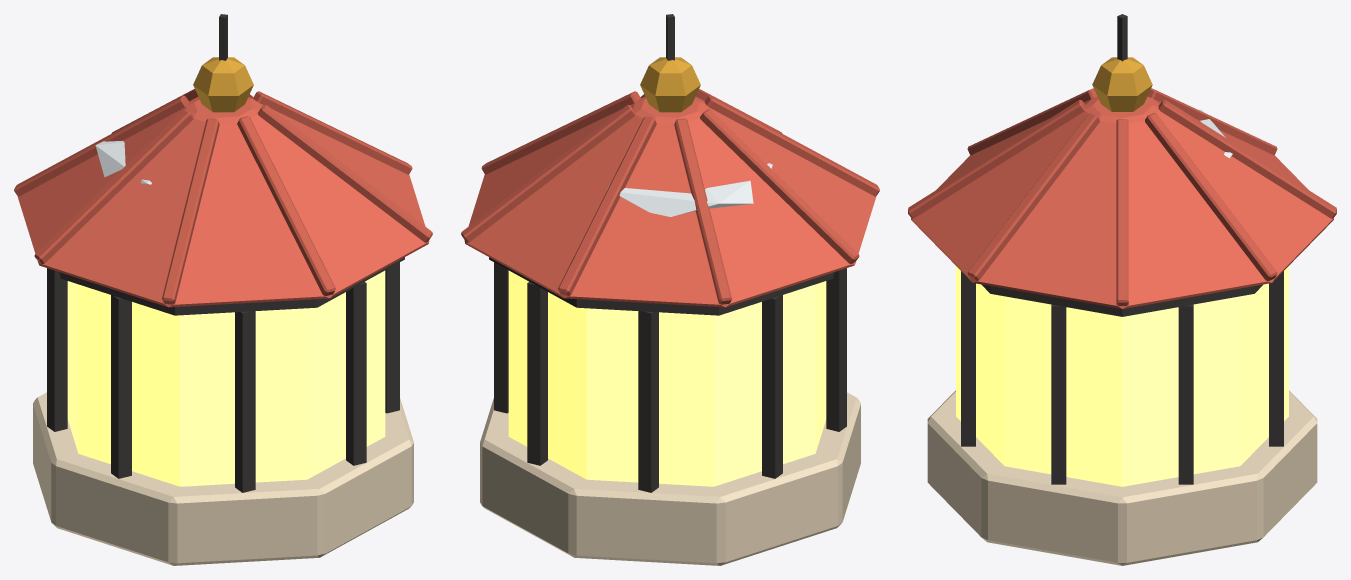
The model's file is mod_roof_lighthouse_loft.glb.
The picture shows the model from 3 angles, left to right: view 1: azimuth 30°, elevation 25°; view 2: azimuth 150°, elevation 25°; view 3: azimuth 270°, elevation 25°; orthographic projection.
Parts seen in each view (by area): view 1: mod_roof_lighthouse_loft; view 2: mod_roof_lighthouse_loft; view 3: mod_roof_lighthouse_loft.
Boxes of the visible parts, bbox=[...] form: mod_roof_lighthouse_loft: bbox=[14, 14, 432, 565]; mod_roof_lighthouse_loft: bbox=[461, 14, 879, 565]; mod_roof_lighthouse_loft: bbox=[908, 14, 1336, 565].
Bounding box in the file's own units: 1.7 × 2.05 × 1.7.
